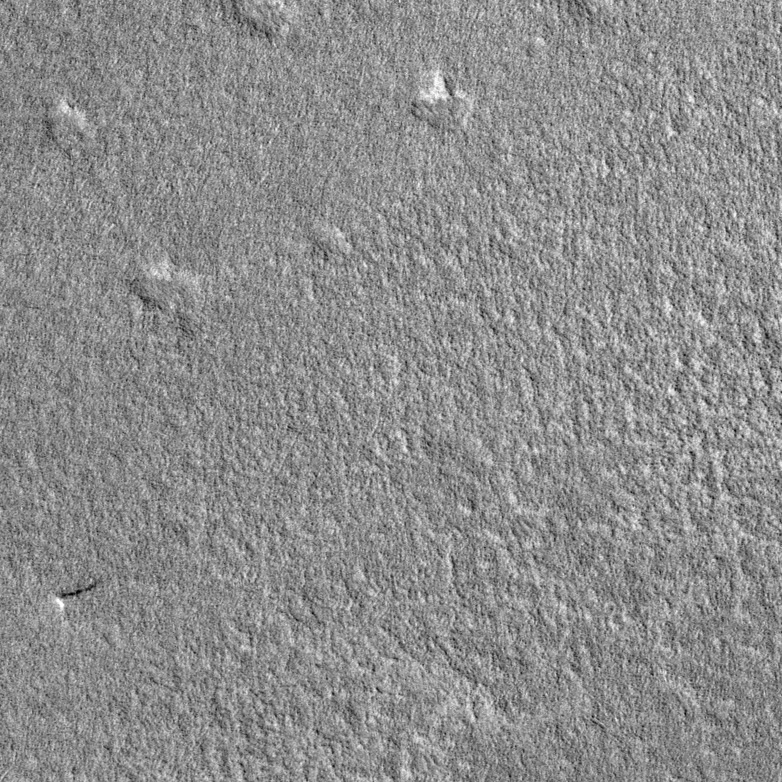dust_devil: (52, 579, 99, 613)
